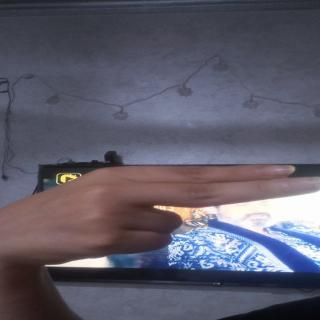AYN: (0, 153, 320, 281)
